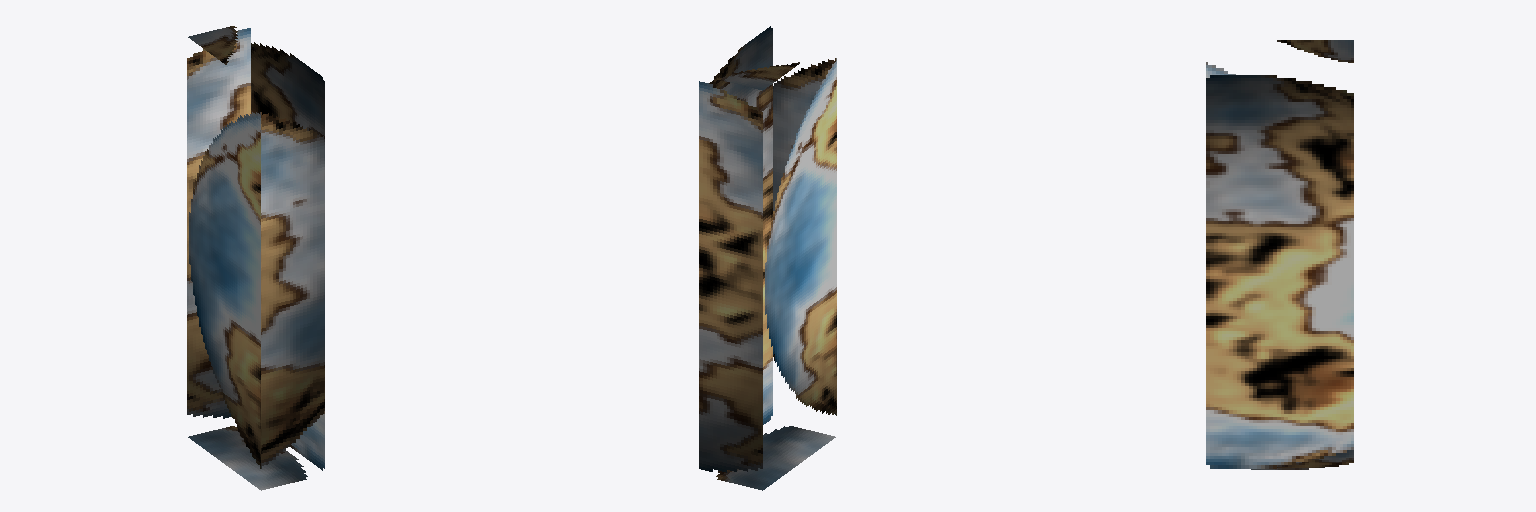
The picture shows the model from 3 angles: view 1: azimuth 30°, elevation 25°; view 2: azimuth 150°, elevation 25°; view 3: azimuth 270°, elevation 25°; orthographic projection.
Parts seen in each view (by area): view 1: Cube.001; view 2: Cube.001; view 3: Cube.001.
Part boxes in pixels (x1,y1,x2,y2): Cube.001: (187, 26, 324, 490); Cube.001: (699, 26, 836, 490); Cube.001: (1206, 40, 1353, 469).
Bounding box in the file's own units: 0.5 × 3 × 1.
Materials: 1 (1 with a texture image).